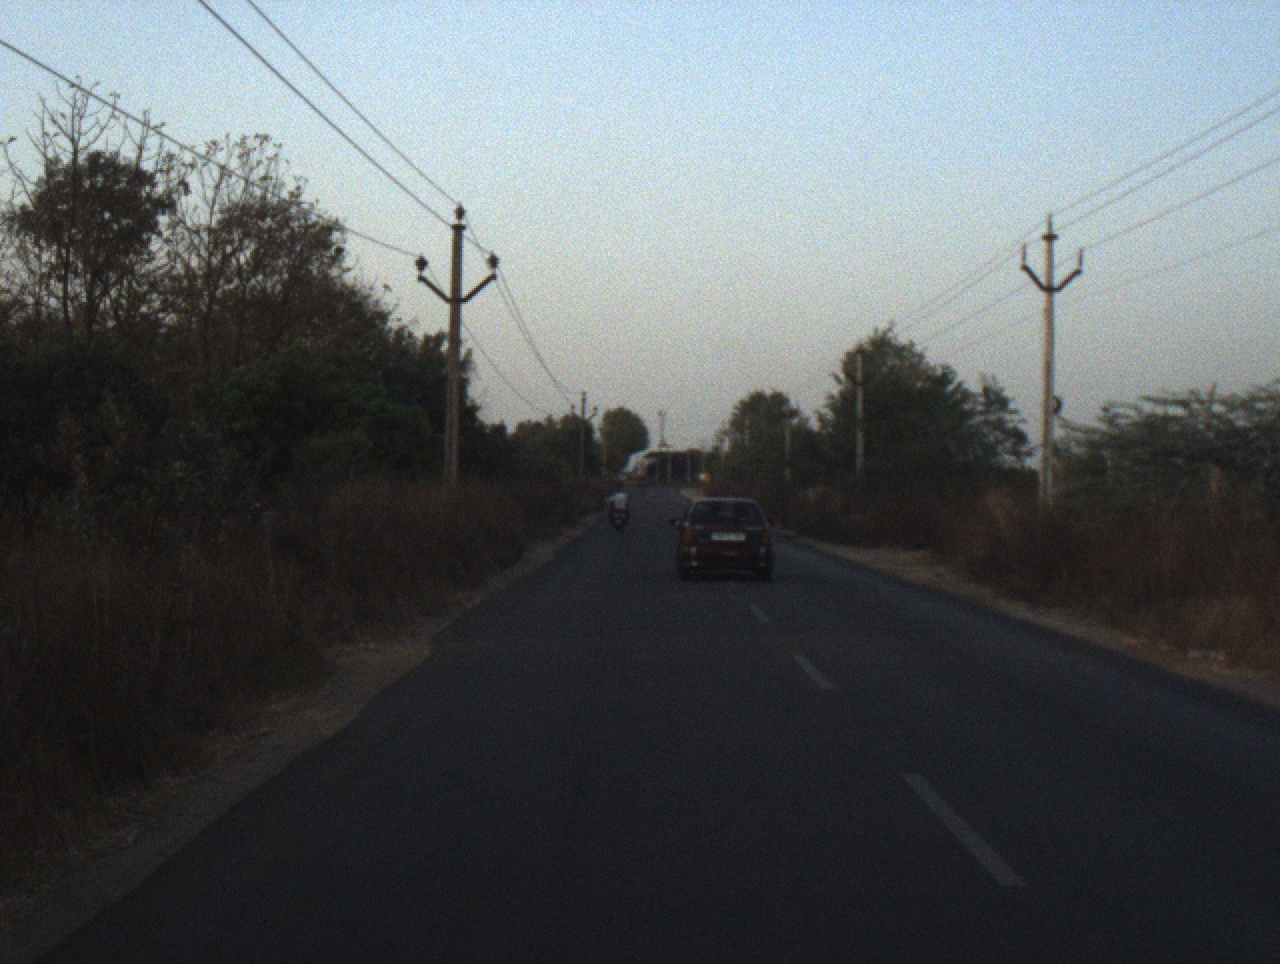autorickshaw: (633, 471, 650, 490)
car: (669, 493, 776, 583)
motorcycle: (607, 504, 629, 531)
rider: (605, 485, 632, 524)
